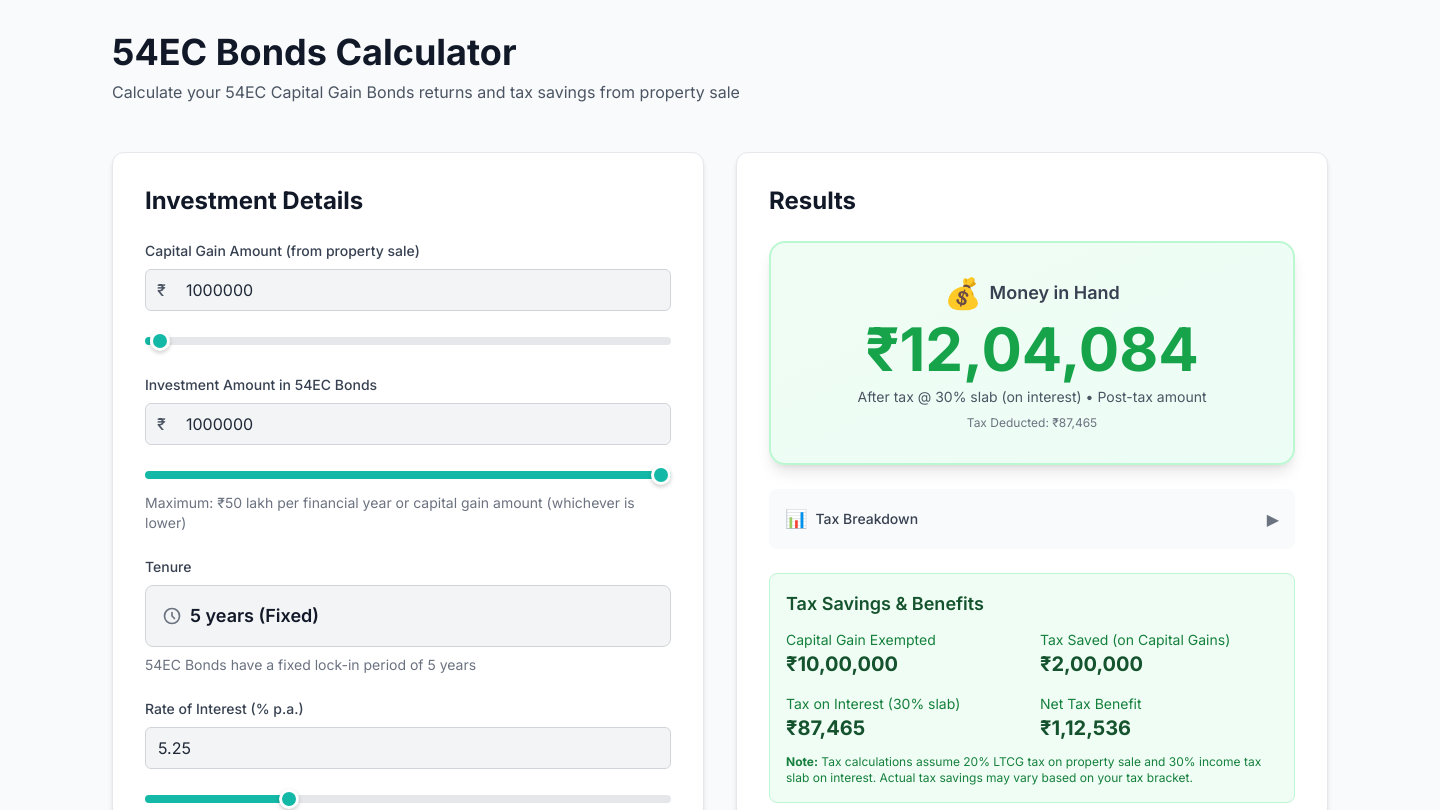
Test: 54EC Bonds Calculator integration › 54EC-20: minimum investment ₹1,000 accepted and calculated
The width and height of the screenshot is (1440, 810).
Type "5000000" into the number field below "Capital Gain Amount (from property sale)". click: (408,290)
box: left=145, top=269, right=671, bottom=311
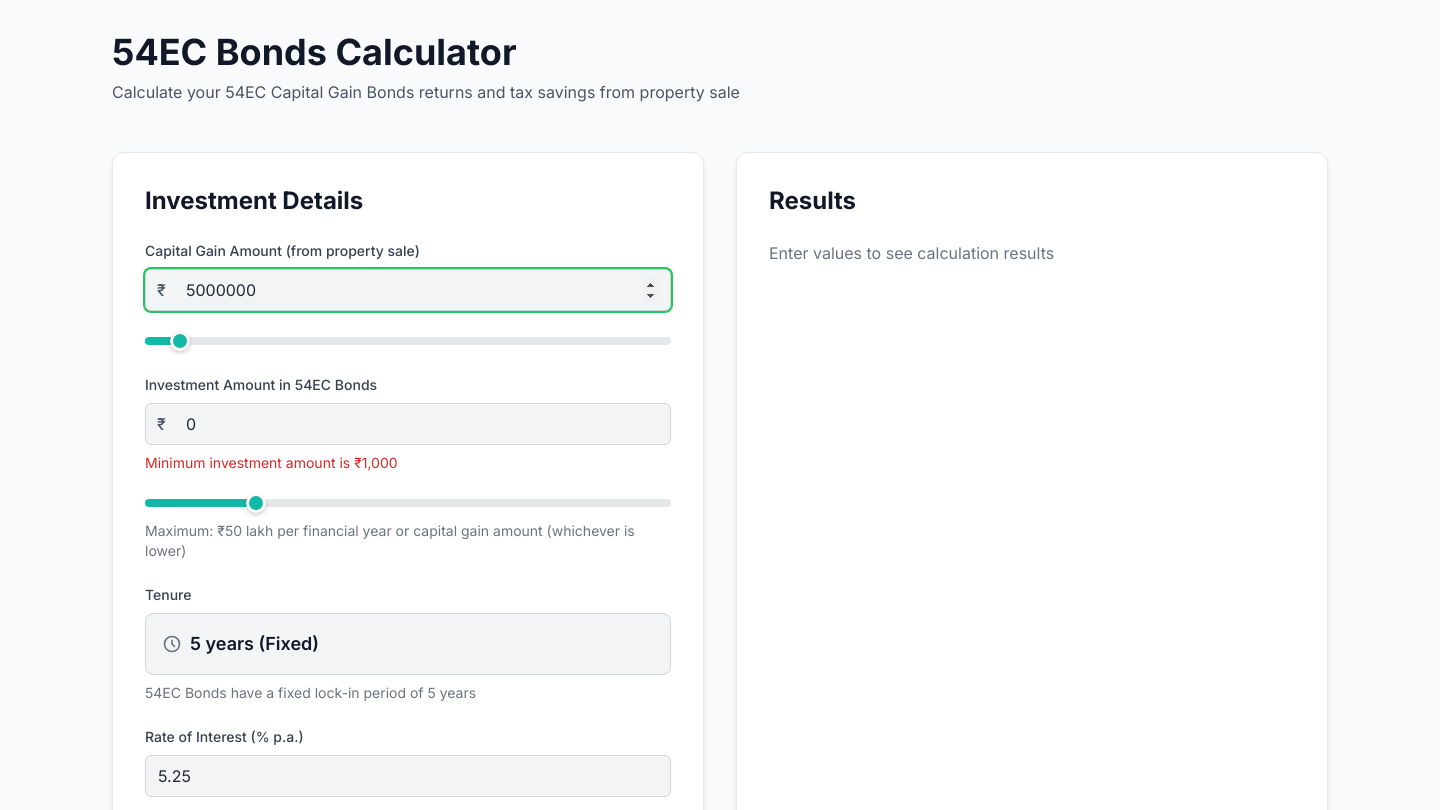
Replace the text in the number field below "Investment Amount in 54EC Bonds" with "1000". click: (408,424)
box: left=145, top=403, right=671, bottom=445
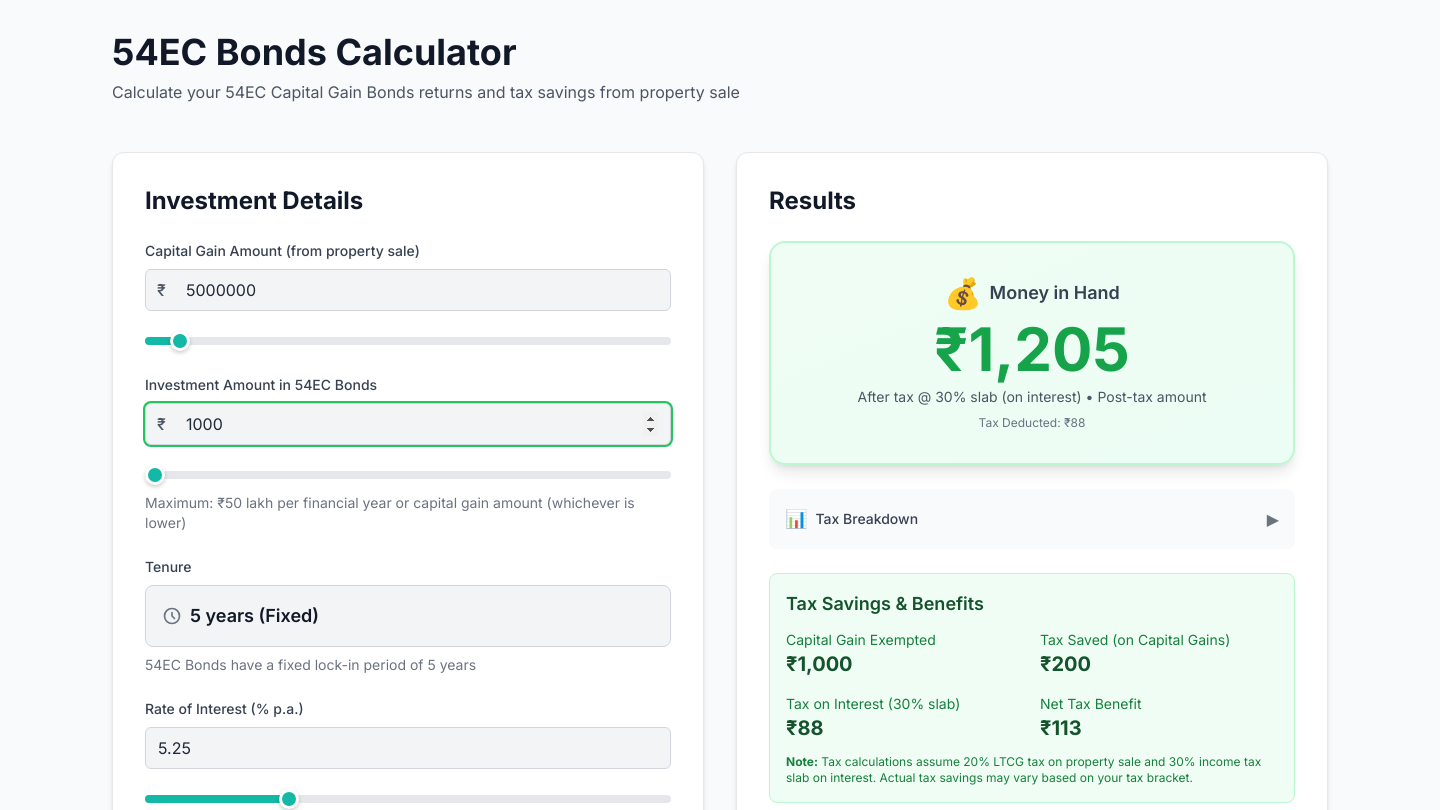
Expected: the heading "Money in Hand" is shown, left=990, top=279, right=1120, bottom=307
